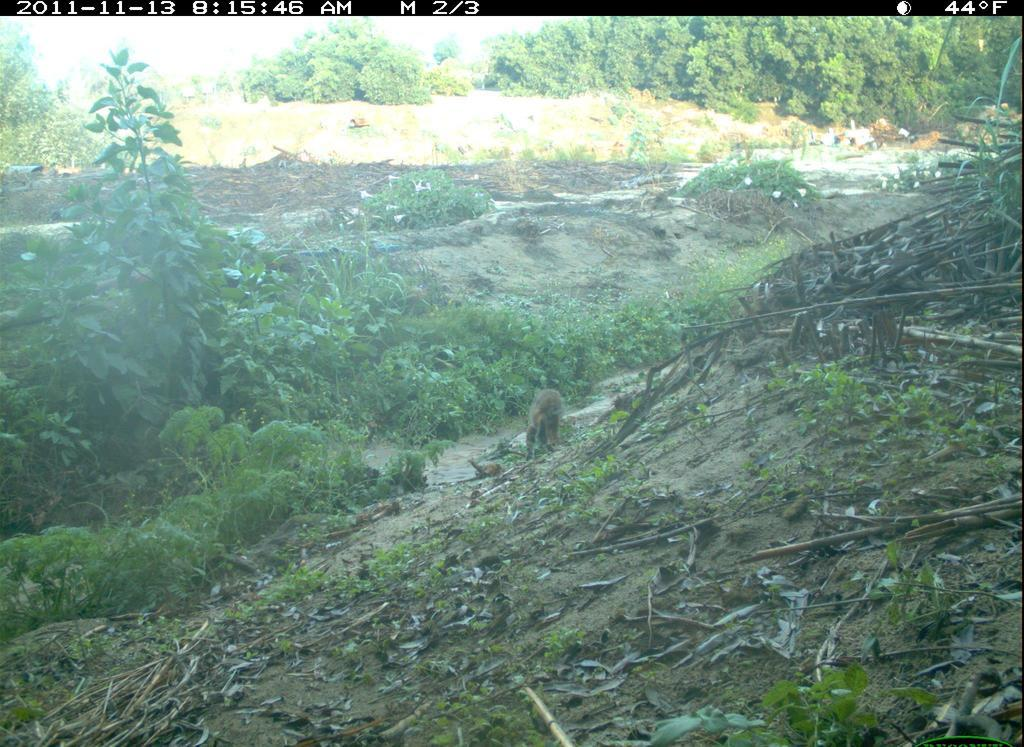bobcat: (518, 379, 569, 456)
